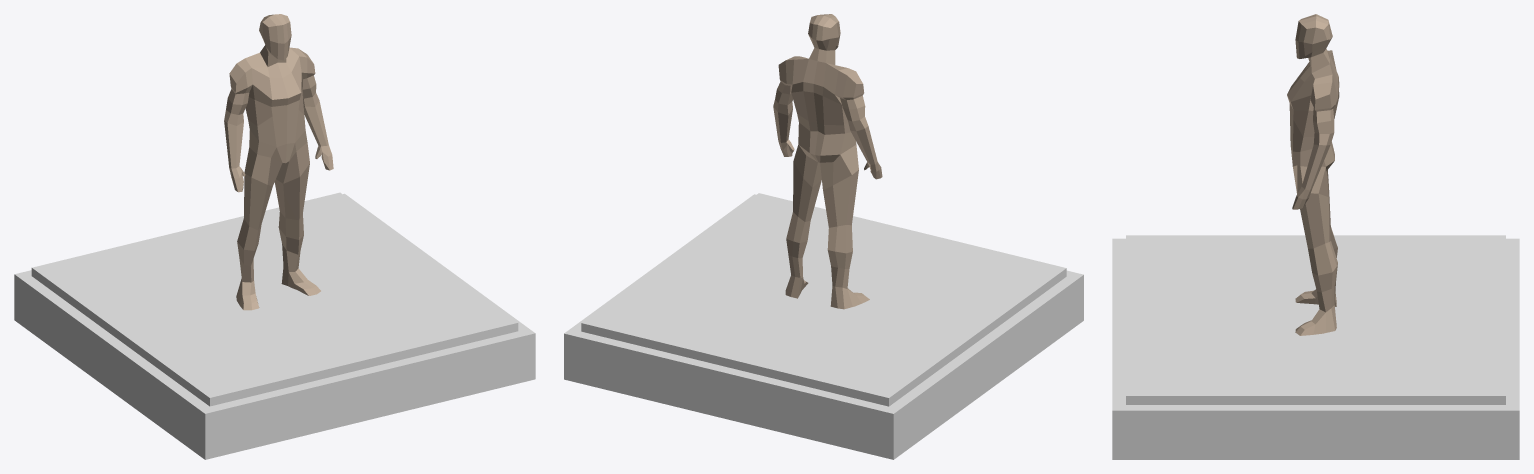
File: human.glb
3 views of the same model, side by side, from view 1: azimuth 30°, elevation 25°; view 2: azimuth 150°, elevation 25°; view 3: azimuth 270°, elevation 25° (orthographic). The views are drawn at different scales.
Parts seen in each view (by area): view 1: Cube, platform, Cube_Material.001_0; view 2: Cube, platform, Cube_Material.001_0; view 3: Cube, platform, Cube_Material.001_0.
Part boxes in pixels (box(x1,y1,x2,y2)): Cube: box(31, 192, 518, 406); platform: box(14, 193, 535, 459); Cube_Material.001_0: box(224, 14, 333, 310); Cube: box(581, 193, 1066, 406); platform: box(564, 194, 1083, 459); Cube_Material.001_0: box(773, 14, 882, 309); Cube: box(1126, 235, 1505, 404); platform: box(1112, 238, 1519, 459); Cube_Material.001_0: box(1287, 14, 1339, 335).
Size of the model in its own units: 3 by 2.91 by 3.
